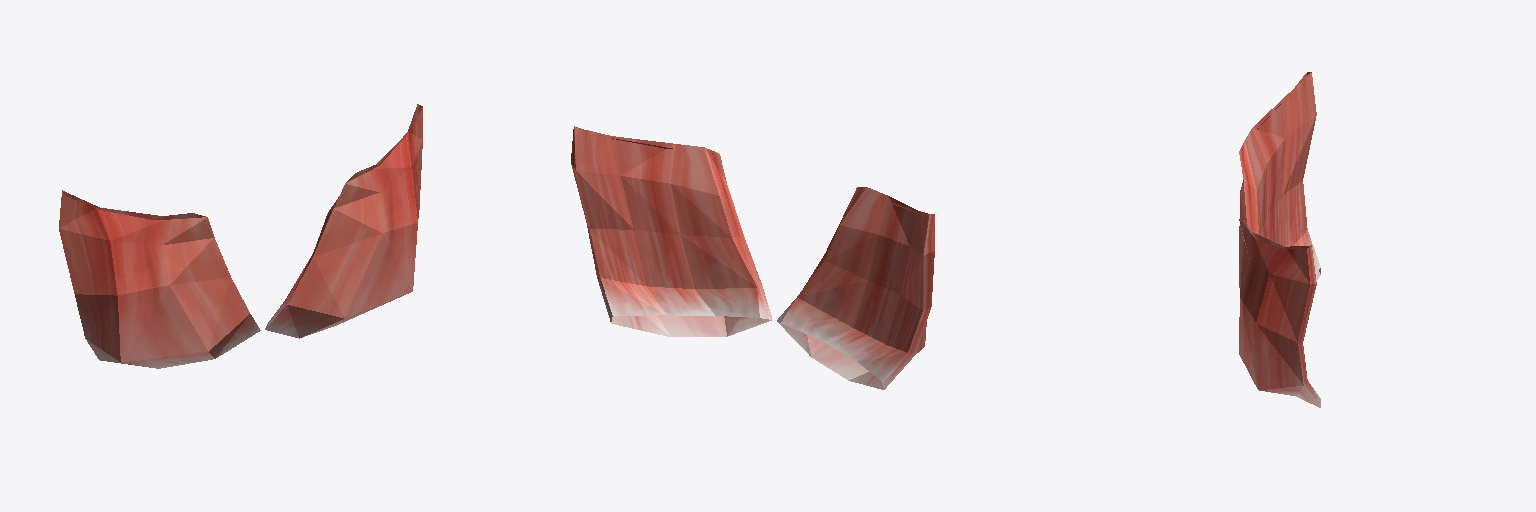
3 renders of one model, left to right at view 1: azimuth 30°, elevation 25°; view 2: azimuth 150°, elevation 25°; view 3: azimuth 270°, elevation 25°, orthographic.
Visible parts, largest first — view 1: Mentalis_Muscle:Mentalis_Muscle_Right_Mesh Mentalis_Muscle:group, Mentalis_Muscle:Mentalis_Muscle_Left1_Mesh Mentalis_Muscle:group; view 2: Mentalis_Muscle:Mentalis_Muscle_Left1_Mesh Mentalis_Muscle:group, Mentalis_Muscle:Mentalis_Muscle_Right_Mesh Mentalis_Muscle:group; view 3: Mentalis_Muscle:Mentalis_Muscle_Left1_Mesh Mentalis_Muscle:group, Mentalis_Muscle:Mentalis_Muscle_Right_Mesh Mentalis_Muscle:group.
Part boxes in pixels (x1,y1,x2,y2): Mentalis_Muscle:Mentalis_Muscle_Right_Mesh Mentalis_Muscle:group: (59,190,260,368); Mentalis_Muscle:Mentalis_Muscle_Left1_Mesh Mentalis_Muscle:group: (265,104,422,338); Mentalis_Muscle:Mentalis_Muscle_Left1_Mesh Mentalis_Muscle:group: (571,126,772,336); Mentalis_Muscle:Mentalis_Muscle_Right_Mesh Mentalis_Muscle:group: (777,187,934,389); Mentalis_Muscle:Mentalis_Muscle_Left1_Mesh Mentalis_Muscle:group: (1239,219,1320,407); Mentalis_Muscle:Mentalis_Muscle_Right_Mesh Mentalis_Muscle:group: (1239,72,1320,287).
Size of the model in its own units: 0.6621 by 0.3376 by 0.1298.
1 materials, 1 textured.